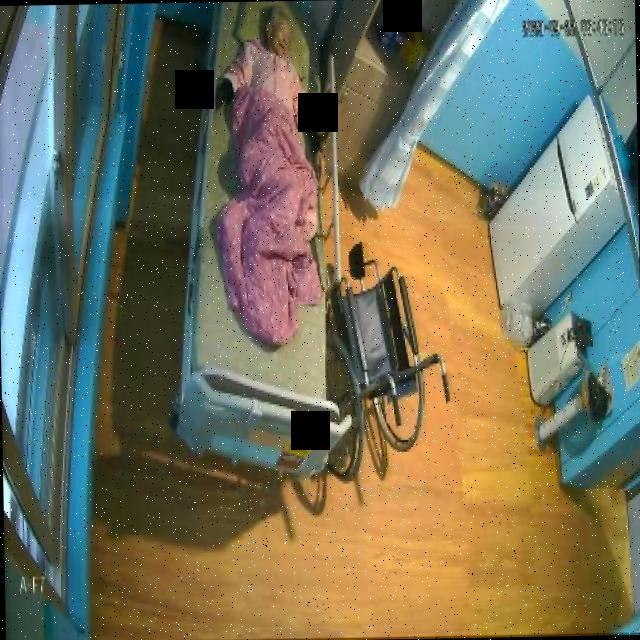bed: (172, 0, 338, 471)
lie: (210, 1, 326, 351)
patient: (212, 2, 328, 154)
